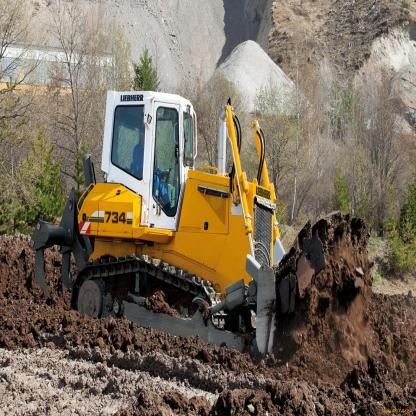bull_dozer/loader/grader: (35, 68, 383, 377)
